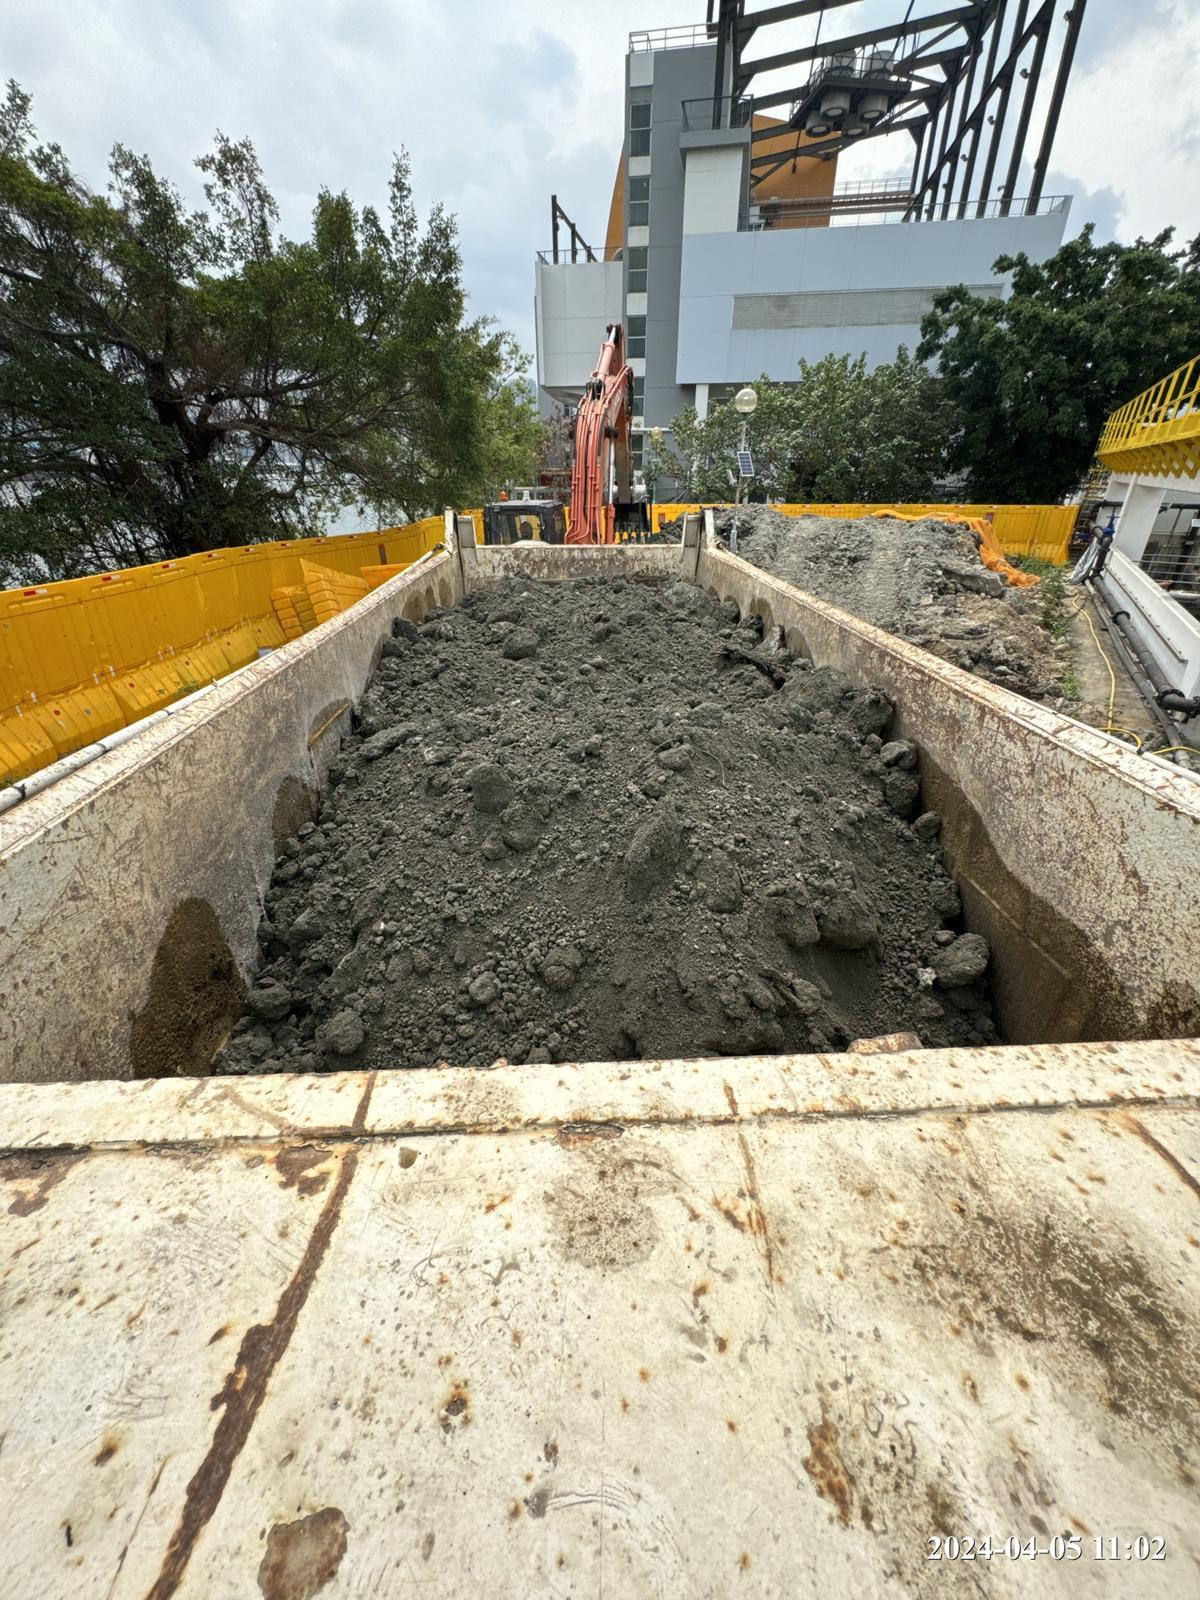dry: (280, 572, 976, 1087)
